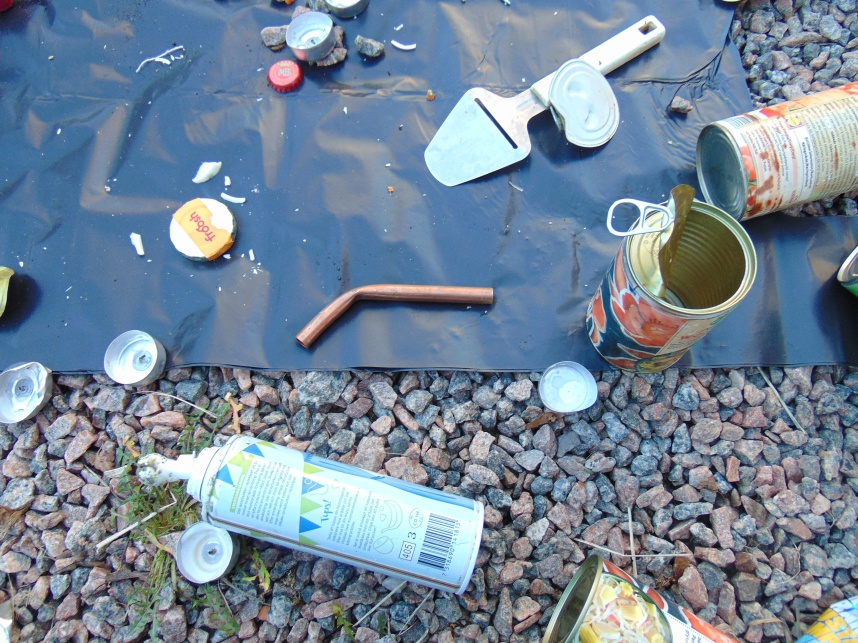metal: (296, 282, 498, 351), (423, 86, 548, 187), (608, 181, 692, 281), (549, 57, 621, 149), (168, 197, 235, 262), (175, 519, 239, 584), (104, 330, 169, 389), (538, 359, 600, 414), (1, 364, 56, 425), (285, 11, 337, 61), (267, 59, 303, 94), (322, 1, 369, 18)
metal_can: (203, 429, 485, 597), (585, 199, 759, 375), (697, 82, 858, 222), (539, 553, 746, 643), (838, 242, 858, 305)
